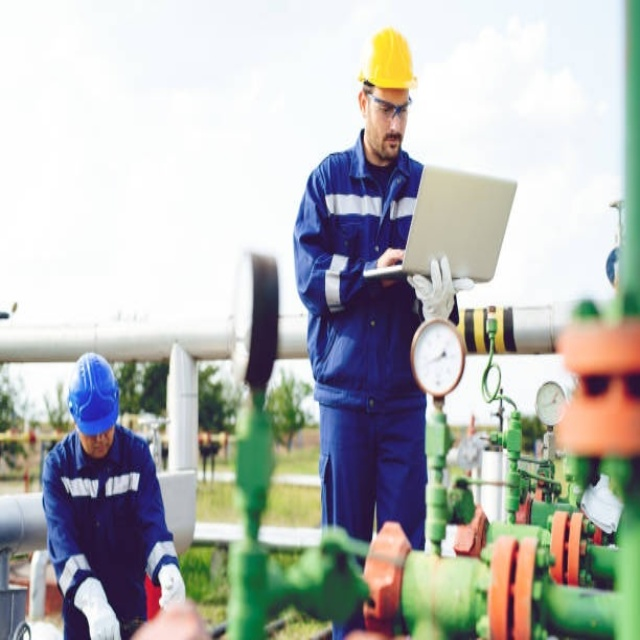Gafas: (362, 88, 412, 121)
Guantes: (412, 251, 474, 326), (72, 573, 121, 638), (152, 562, 190, 610)
Sin_guantes: (374, 242, 406, 265)
Sin_mascara: (379, 127, 404, 149)
